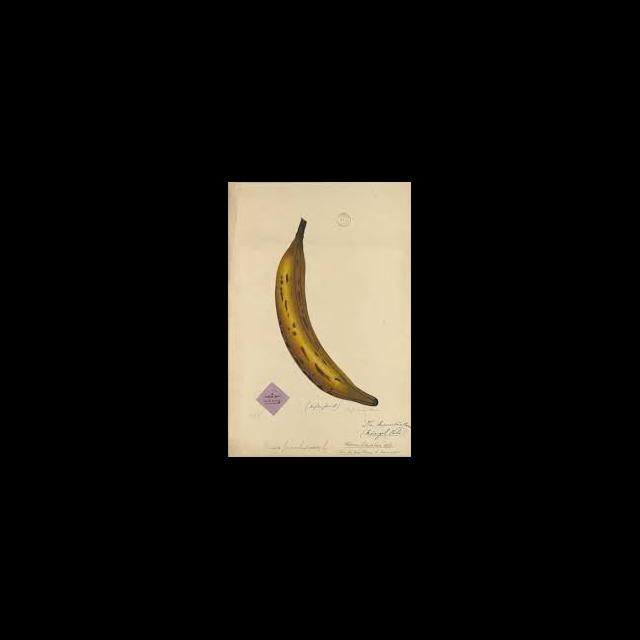food_waste: (263, 202, 398, 434)
